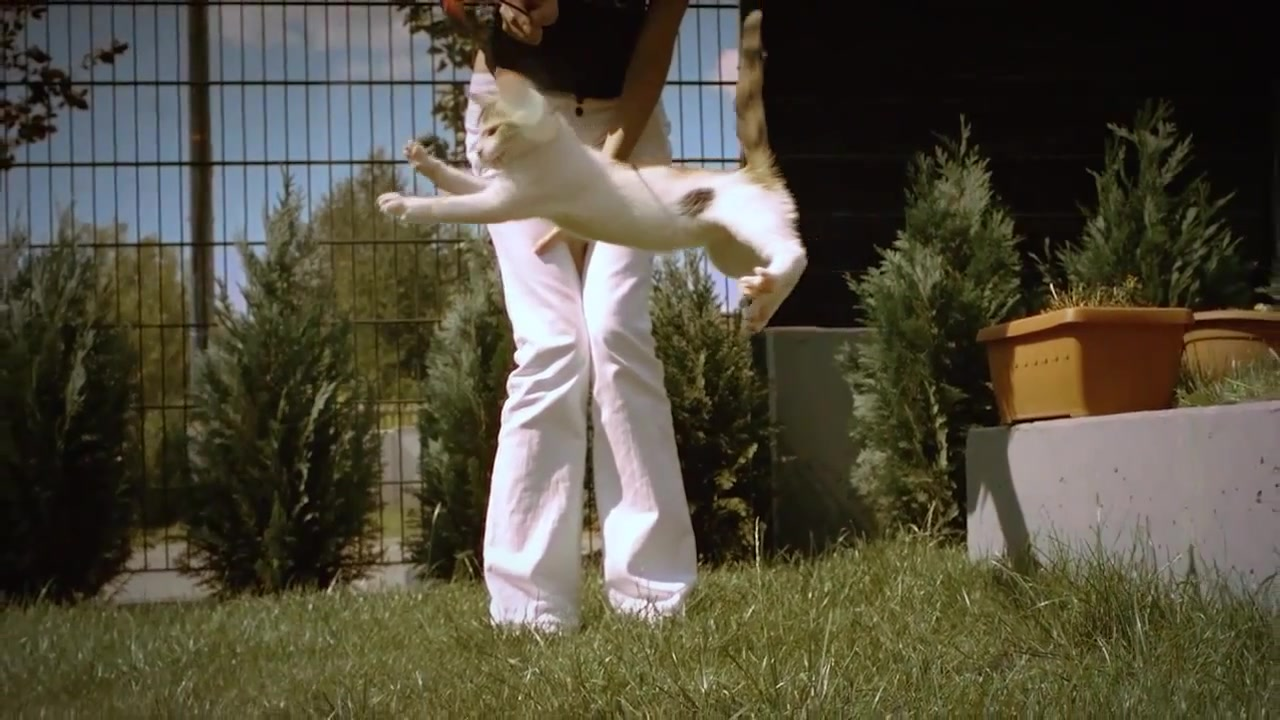cat: (371, 10, 812, 335)
